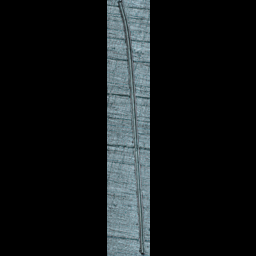d: (114, 0, 145, 255)
